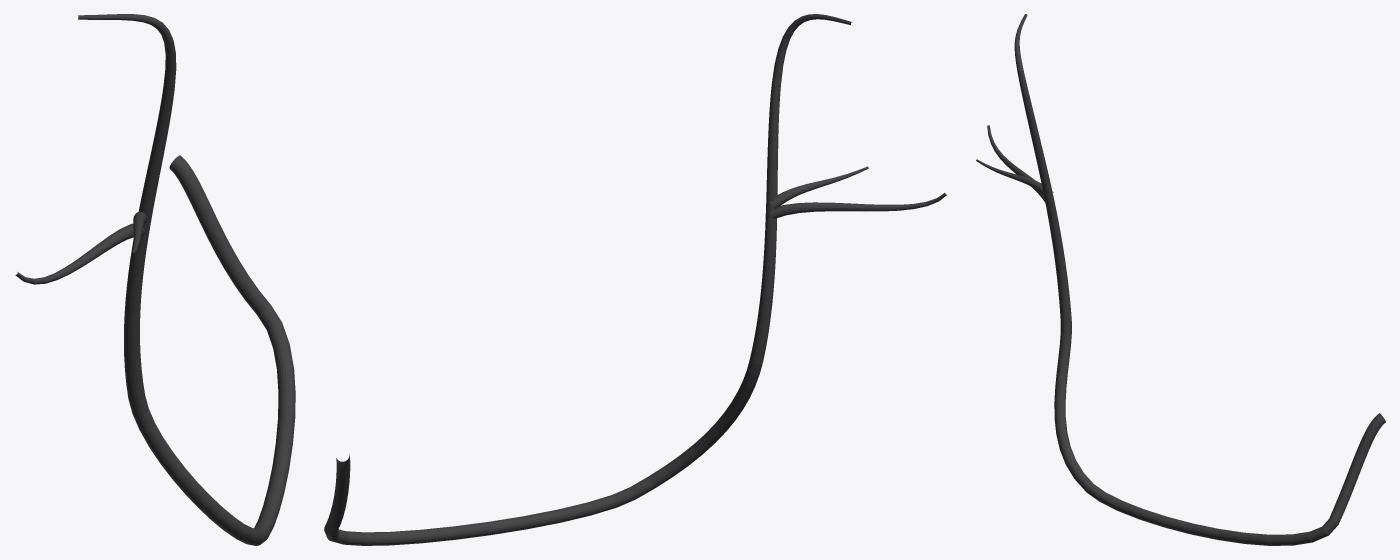
File: n_V_V2_maxillarydiv_cornual_zygomaticopalpebral.glb
The picture shows the model from 3 angles, left to right: view 1: azimuth 30°, elevation 25°; view 2: azimuth 150°, elevation 25°; view 3: azimuth 270°, elevation 25°; orthographic projection. The views are drawn at different scales.
Visible parts, largest first — view 1: n_V_V2_maxillarydiv_cornual_zygomaticopalpebral; view 2: n_V_V2_maxillarydiv_cornual_zygomaticopalpebral; view 3: n_V_V2_maxillarydiv_cornual_zygomaticopalpebral.
Part boxes in pixels (<box>): n_V_V2_maxillarydiv_cornual_zygomaticopalpebral: <box>15,14,295,545</box>; n_V_V2_maxillarydiv_cornual_zygomaticopalpebral: <box>324,14,946,545</box>; n_V_V2_maxillarydiv_cornual_zygomaticopalpebral: <box>976,14,1385,545</box>.
Size of the model in its own units: 0.1055 by 0.122 by 0.109.
Materials: 1 (1 with a texture image).
